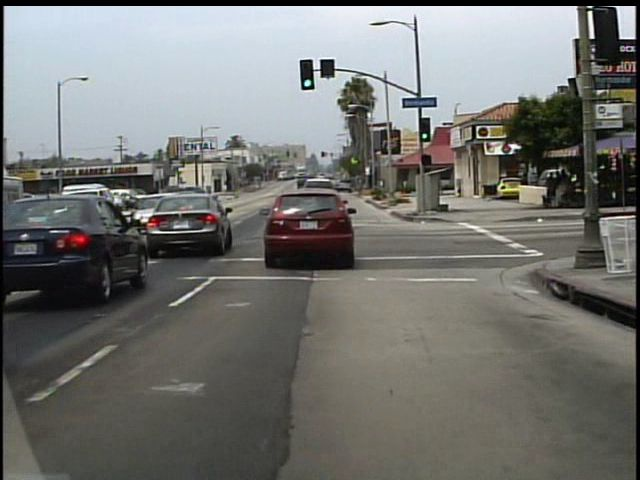person: (517, 170, 531, 205)
